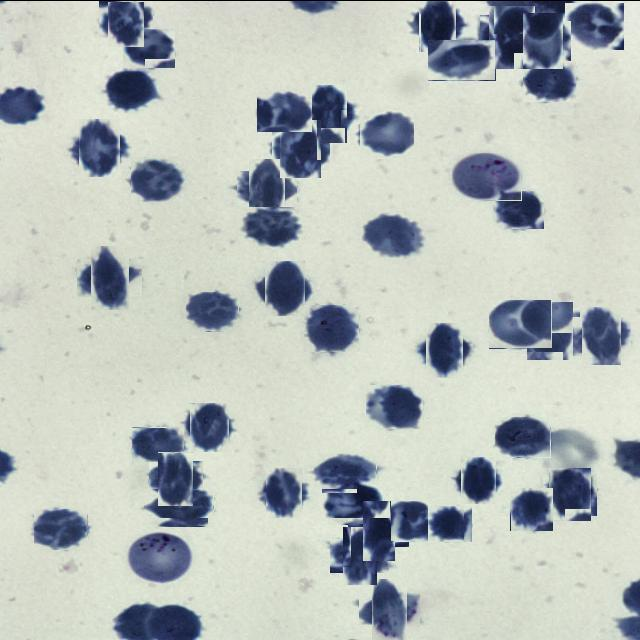red blood cell: (488, 299, 552, 348), (484, 10, 539, 64), (360, 104, 415, 158), (428, 39, 496, 80), (565, 1, 624, 48), (524, 303, 576, 356), (360, 213, 423, 256), (144, 488, 214, 526), (84, 252, 136, 302), (304, 304, 359, 351), (322, 483, 384, 524), (366, 384, 423, 428), (241, 206, 302, 247), (74, 122, 124, 172), (302, 88, 352, 138), (276, 123, 326, 173), (577, 311, 626, 360), (519, 15, 567, 64), (131, 157, 184, 201), (260, 264, 308, 312), (546, 470, 594, 518), (366, 584, 414, 632), (243, 164, 291, 212), (495, 416, 551, 457), (314, 453, 377, 489), (257, 90, 312, 131), (104, 68, 158, 109), (34, 508, 88, 549), (415, 0, 462, 47), (356, 506, 402, 554), (523, 61, 576, 101), (186, 291, 239, 331), (123, 28, 176, 68), (422, 327, 468, 372), (337, 532, 382, 578), (262, 469, 306, 514), (187, 404, 232, 448), (153, 456, 198, 500), (493, 190, 544, 228), (132, 426, 185, 462), (104, 0, 149, 42), (391, 500, 436, 541), (457, 458, 499, 501), (511, 488, 554, 530), (428, 505, 473, 542)
ring: (125, 531, 194, 583), (452, 152, 522, 200)
